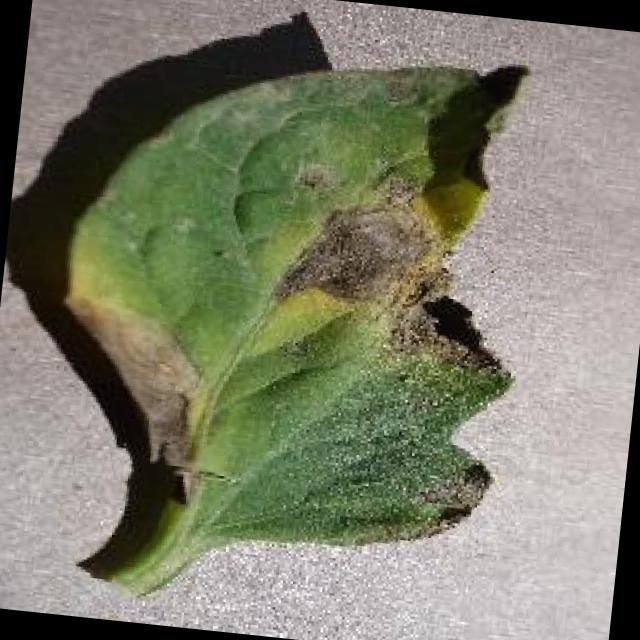Tomato_Early_Blight: (257, 52, 554, 368), (6, 280, 242, 539)
